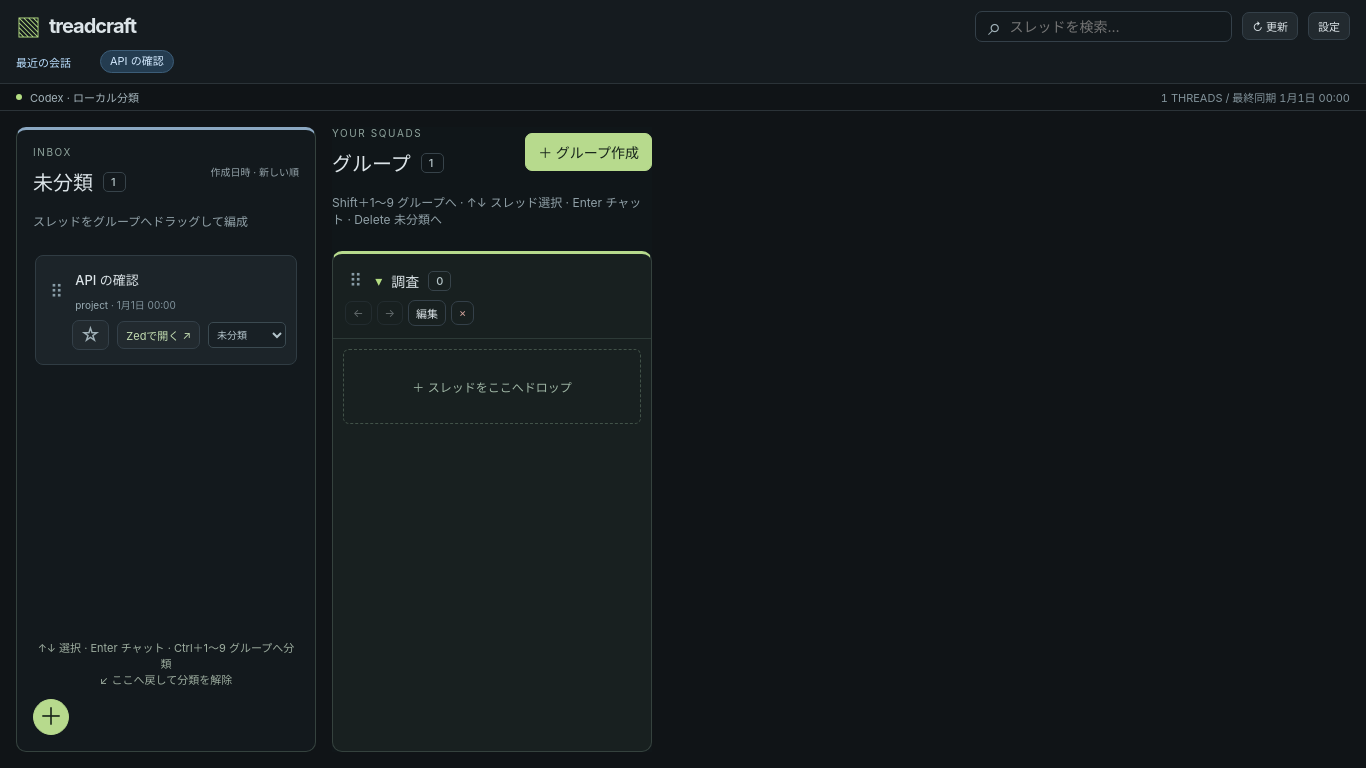
keeps the inbox outside the group scroll viewport even with chat open
Click the button with aria-label "API の確認 を選択": (181, 291) [75, 270, 286, 312]
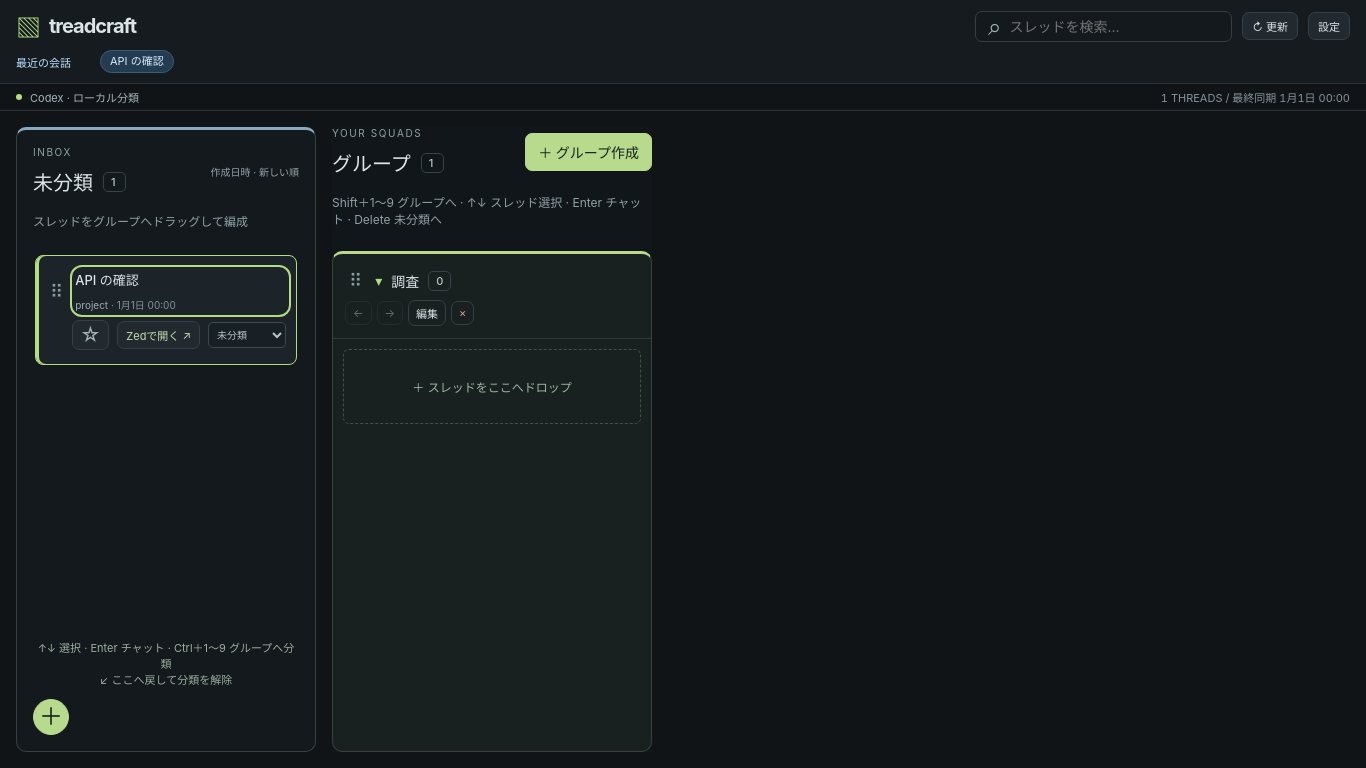
Press Enter
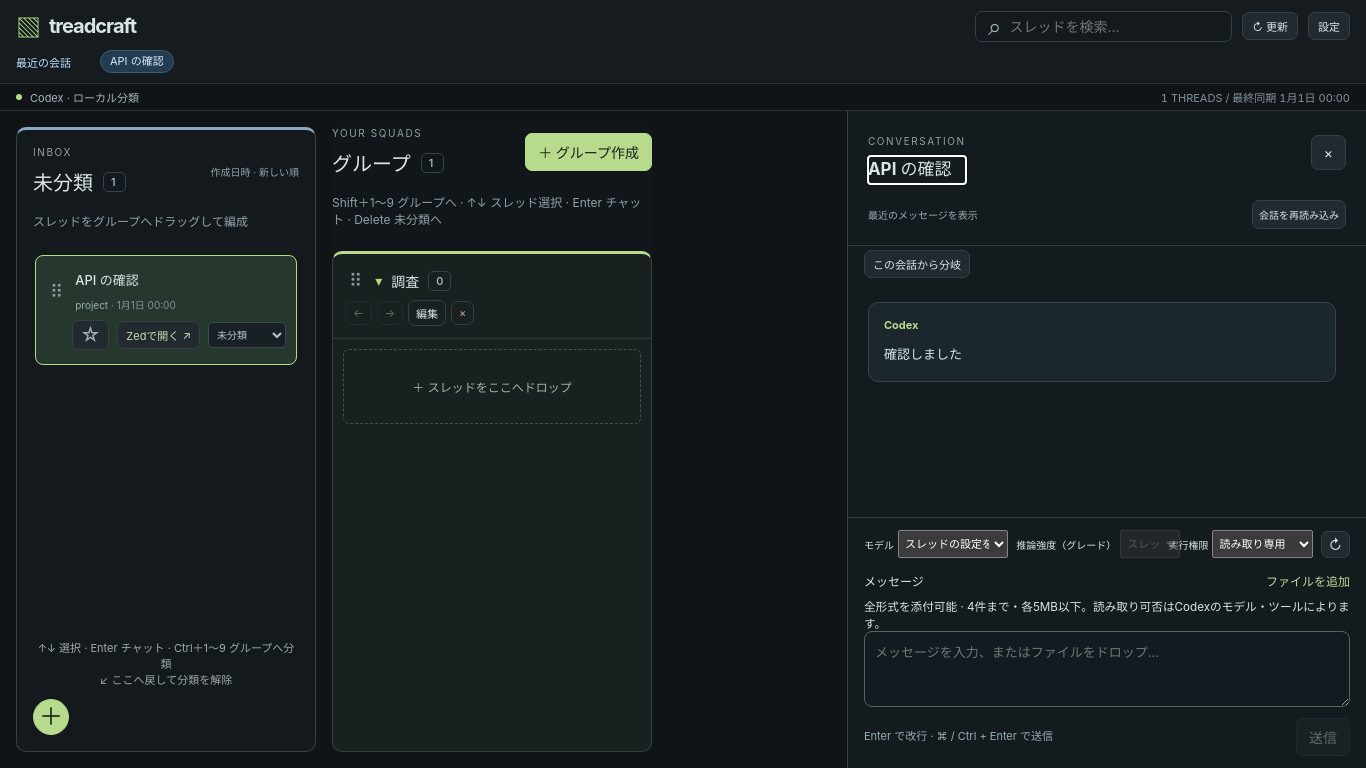
Expected: the element named "チャット内容" is shown, [847, 111, 1365, 767]
